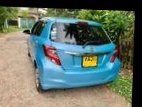car: (22, 17, 123, 94)
